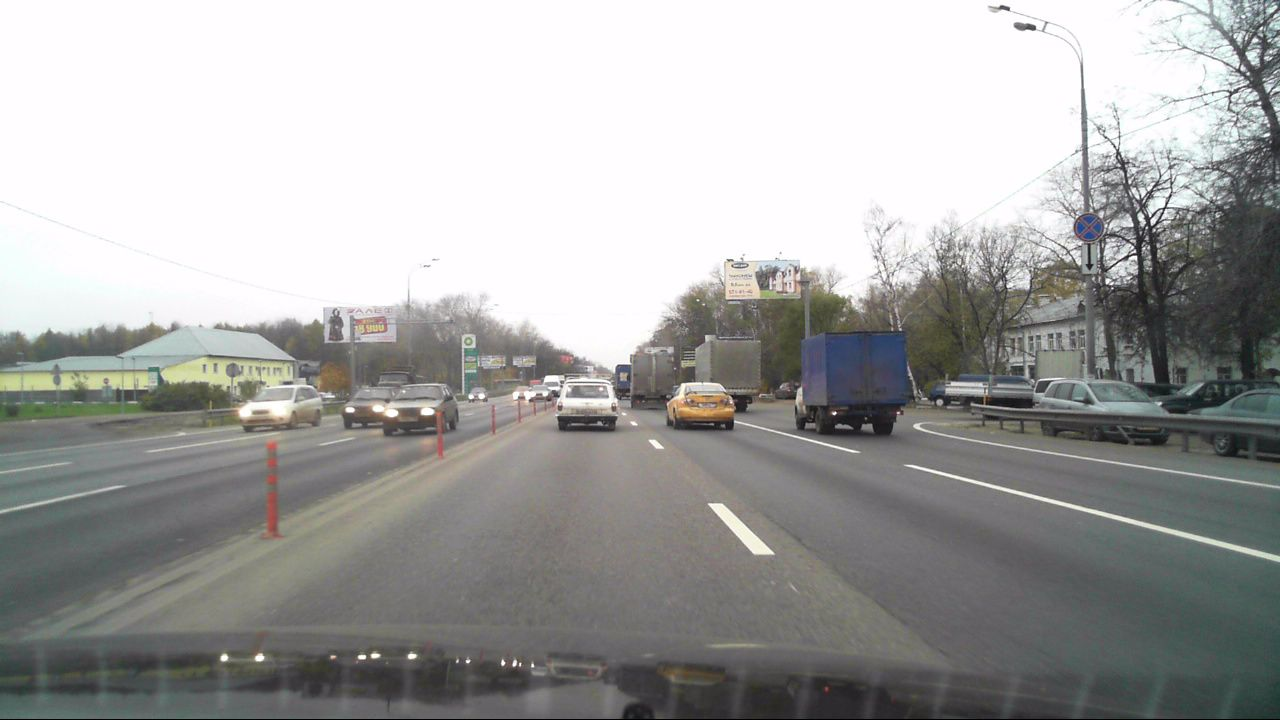No Parking: (1073, 213, 1103, 242)
